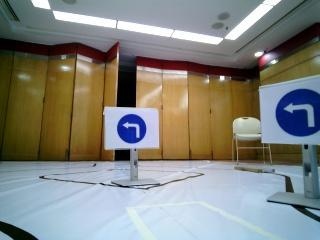left: (109, 109, 151, 145)
